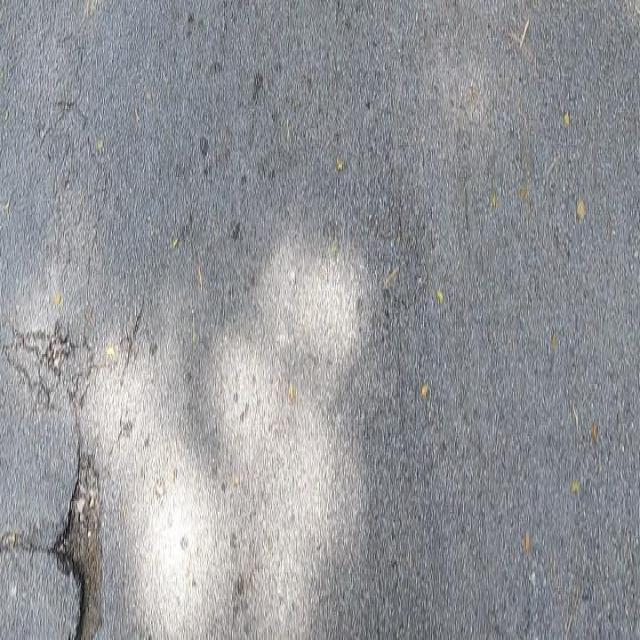potholes: (0, 302, 162, 640)
